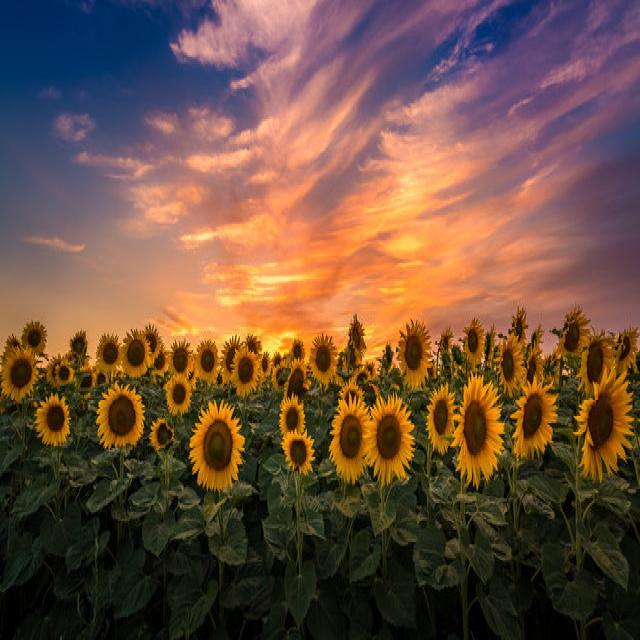sunflower: (573, 364, 634, 482), (451, 372, 504, 487), (188, 398, 245, 491), (364, 393, 415, 483), (510, 372, 558, 459), (328, 393, 370, 483), (95, 380, 145, 450), (575, 324, 619, 394), (396, 318, 431, 388), (425, 382, 459, 453), (0, 343, 38, 402), (556, 299, 592, 356), (34, 391, 70, 446), (494, 332, 524, 396), (308, 330, 337, 386), (281, 428, 315, 474), (232, 347, 260, 397), (612, 324, 640, 374), (120, 329, 149, 377), (278, 391, 306, 438), (461, 316, 485, 366), (194, 338, 219, 384), (95, 330, 120, 376), (164, 372, 191, 414), (284, 357, 312, 397), (220, 334, 242, 384), (167, 338, 193, 377), (21, 318, 47, 356), (149, 416, 174, 452), (348, 314, 368, 358), (525, 338, 544, 382), (46, 352, 68, 387), (143, 322, 161, 361), (509, 306, 528, 342), (340, 378, 362, 407), (1, 332, 22, 362), (76, 365, 94, 400), (544, 348, 560, 386), (151, 343, 169, 375), (54, 359, 74, 387), (69, 329, 87, 359), (436, 326, 453, 356), (344, 340, 362, 368), (384, 343, 399, 375), (272, 363, 287, 394), (289, 336, 305, 363), (486, 323, 496, 366), (352, 366, 370, 388), (244, 332, 261, 354), (530, 322, 546, 345), (364, 384, 378, 407), (93, 366, 108, 384), (259, 352, 269, 378), (335, 351, 347, 372), (270, 350, 282, 370), (426, 360, 438, 380), (364, 360, 374, 379)
